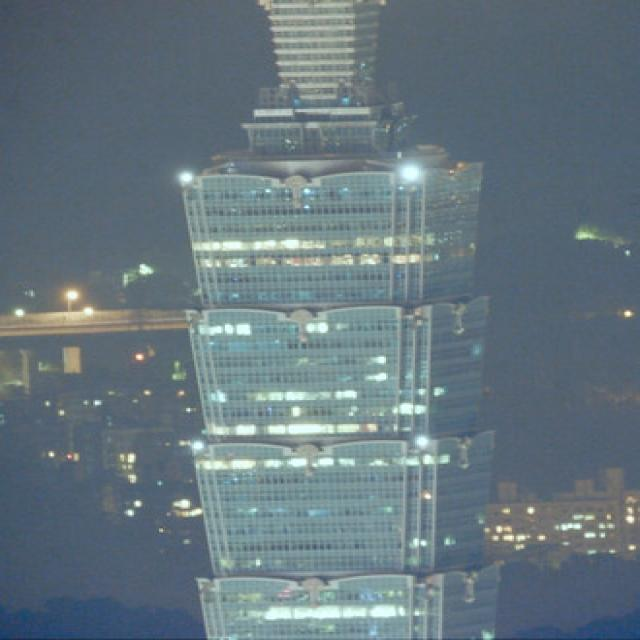Normal_building: (167, 0, 512, 640)
